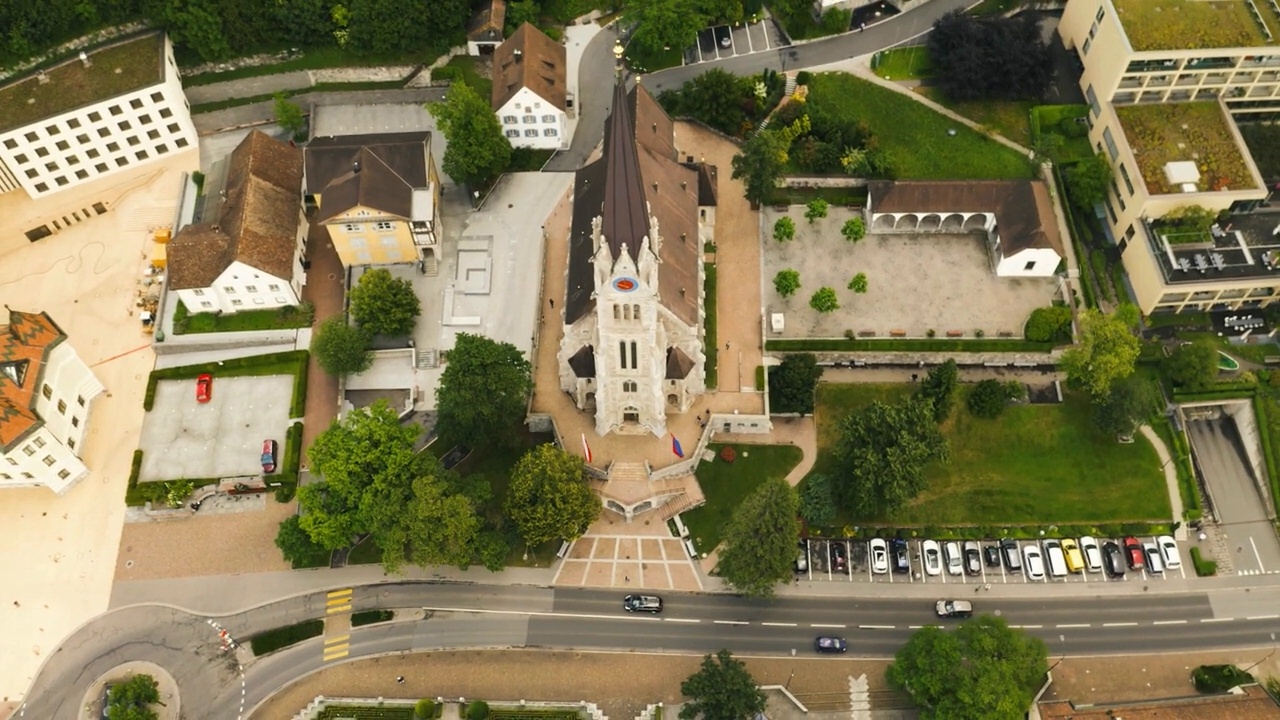araba: (1040, 532, 1073, 584), (1021, 537, 1052, 584), (1100, 536, 1131, 580), (1078, 534, 1112, 574), (1155, 534, 1183, 571), (1123, 536, 1153, 570), (1063, 536, 1089, 574), (961, 538, 987, 575), (871, 535, 893, 574), (941, 539, 963, 577), (925, 540, 945, 579), (622, 594, 663, 613), (1147, 537, 1168, 574), (1002, 537, 1024, 572), (891, 536, 911, 572), (934, 598, 973, 615), (816, 633, 848, 650), (983, 543, 1003, 568)
